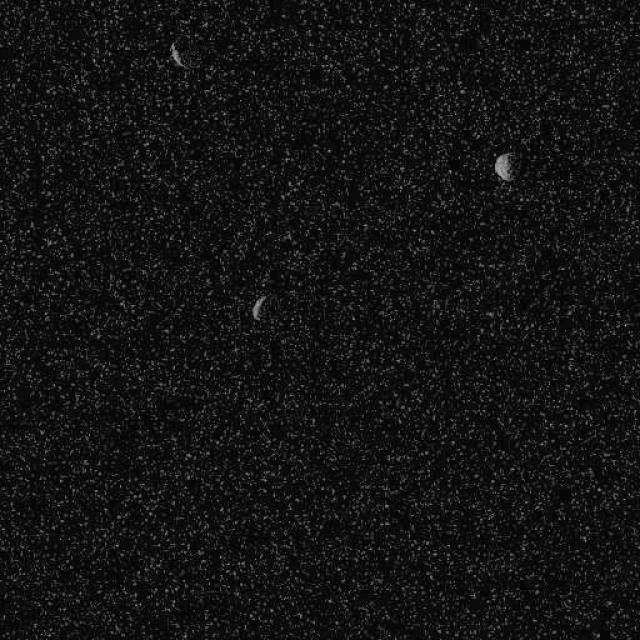D2: (492, 151, 518, 181), (168, 39, 188, 70), (250, 294, 268, 321)
